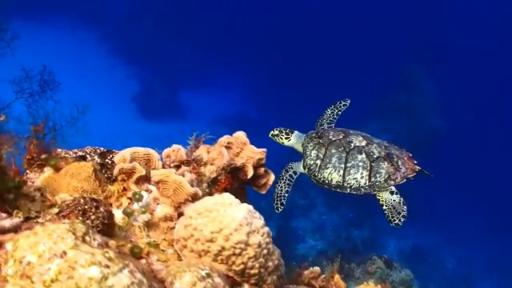Fish: (269, 99, 422, 226)
